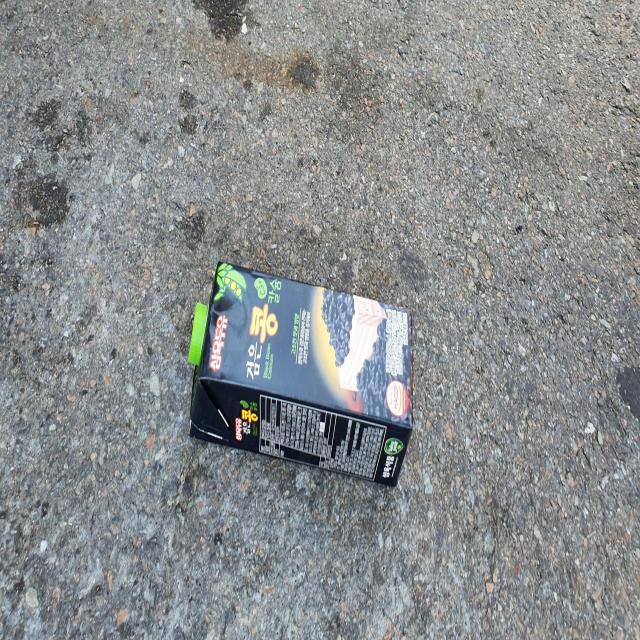paperpack: (189, 261, 413, 486)
